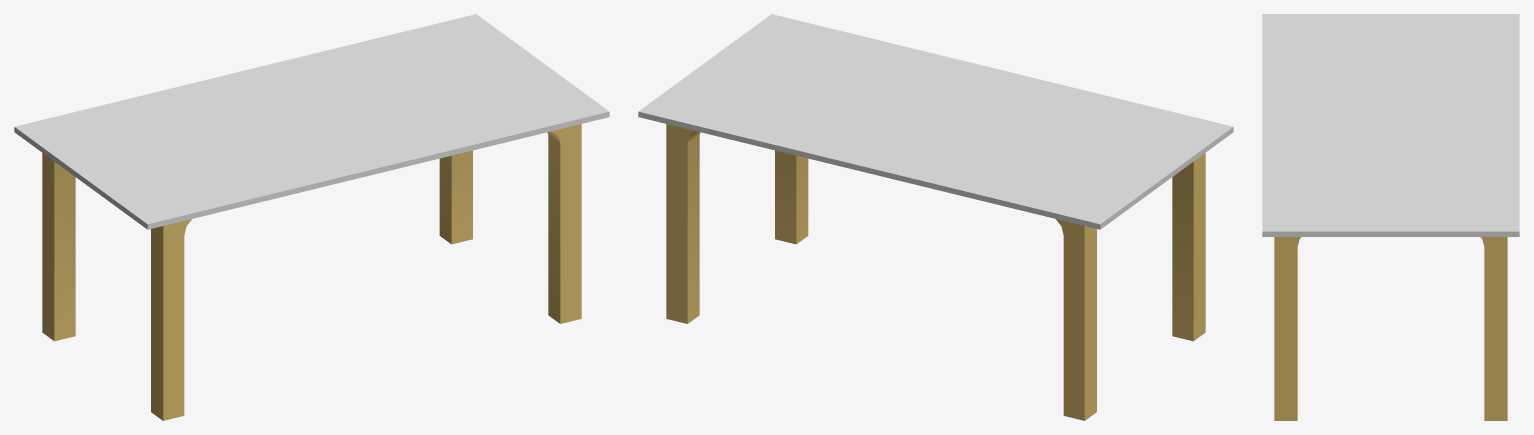
Rendered from Table.fbx.
The picture shows the model from 3 angles, left to right: view 1: azimuth 30°, elevation 25°; view 2: azimuth 150°, elevation 25°; view 3: azimuth 270°, elevation 25°; orthographic projection. The views are drawn at different scales.
Parts seen in each view (by area): view 1: Table; view 2: Table; view 3: Table.
Boxes of the visible parts, x1,y1,x2,y2 form: Table: (14, 14, 609, 420); Table: (638, 14, 1233, 420); Table: (1262, 14, 1519, 420).
Size of the model in its own units: 442 by 189 by 221.
1 material, 1 textured.
